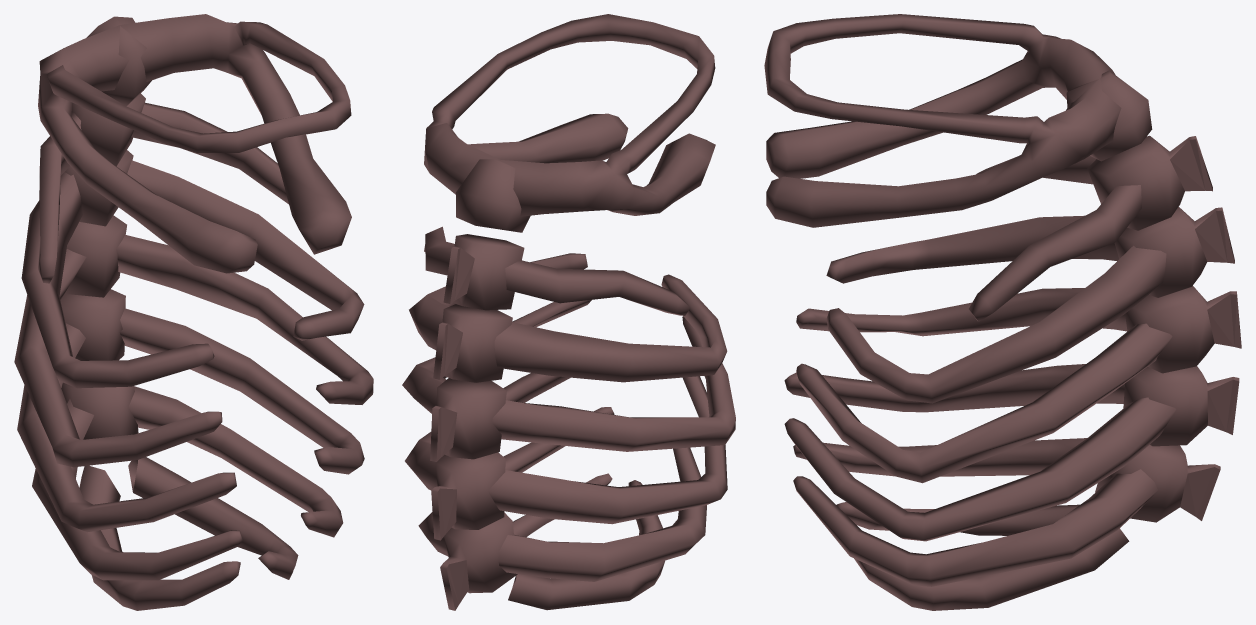
The model's file is SM_BirdSkeletonRibcage.FBX.
3 views of the same model, side by side, from view 1: azimuth 30°, elevation 25°; view 2: azimuth 150°, elevation 25°; view 3: azimuth 270°, elevation 25° (orthographic). The views are drawn at different scales.
Visible parts, largest first — view 1: SM_BirdSkeletonRibcage; view 2: SM_BirdSkeletonRibcage; view 3: SM_BirdSkeletonRibcage.
Part boxes in pixels (x1,y1,x2,y2): SM_BirdSkeletonRibcage: (14,14,373,610); SM_BirdSkeletonRibcage: (402,14,735,610); SM_BirdSkeletonRibcage: (764,14,1241,610).
Bounding box in the file's own units: 40.13 × 64.02 × 53.23.
